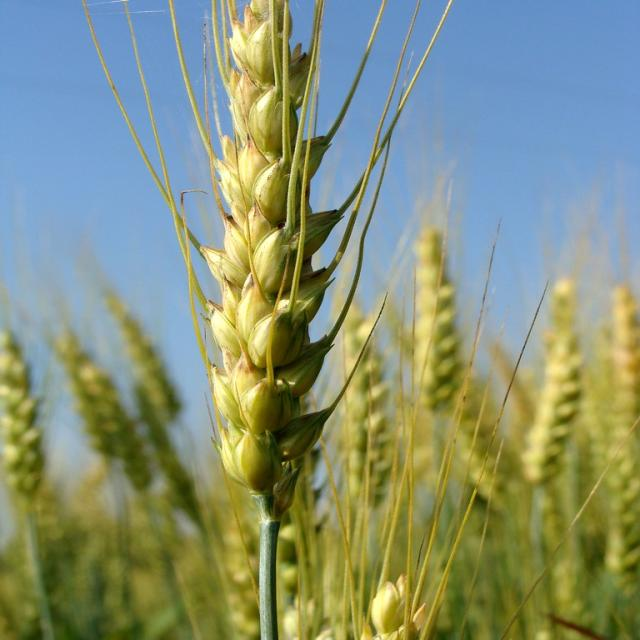Wheathead: (165, 0, 350, 492), (500, 278, 607, 500), (0, 338, 75, 542), (402, 225, 472, 412)
